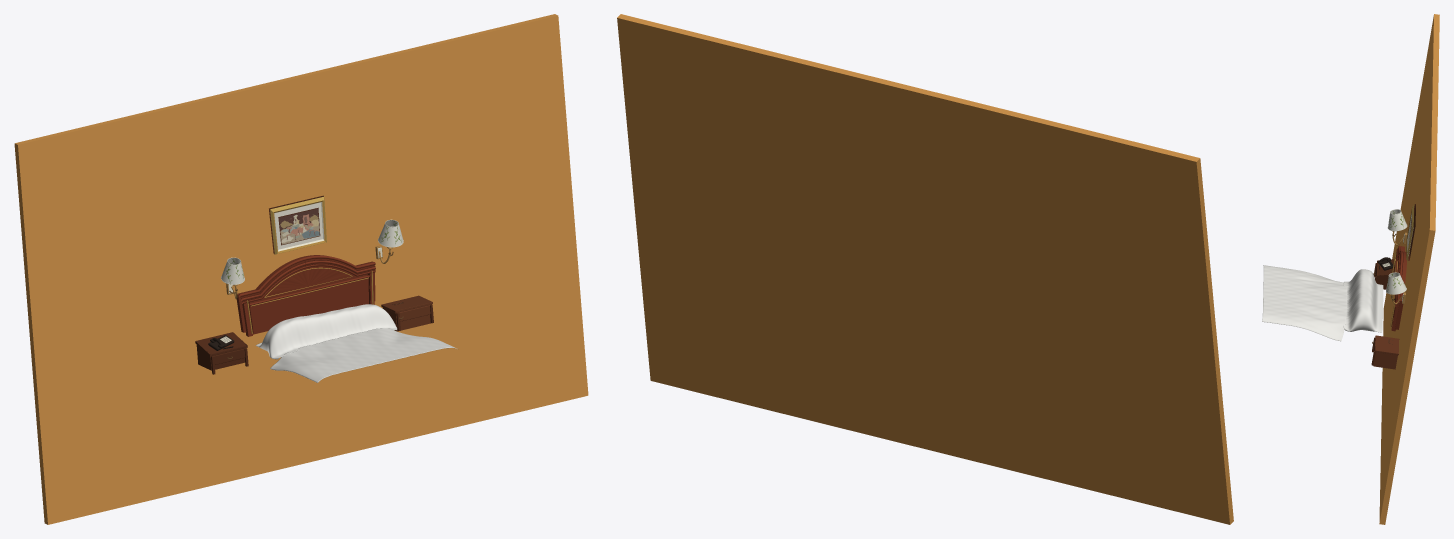
Rendered from scene-1-ours.glb.
3 renders of one model, left to right at view 1: azimuth 30°, elevation 25°; view 2: azimuth 150°, elevation 25°; view 3: azimuth 270°, elevation 25°, orthographic. The views are drawn at different scales.
Parts seen in each view (by area): view 1: Orange rear wall, Broad foreground white coverlet, Continuous raised white bedding, Lower headboard rectangular inset, Headboard shaped solid backing, Continuous painted pigment surface, Picture mat; view 2: Orange rear wall; view 3: Orange rear wall, Broad foreground white coverlet, Continuous raised white bedding, Right tabletop upper face, obj_007, Right cabinet case, obj_005, Headboard shaped solid backing.
Part boxes in pixels (x1,y1,x2,y2): Orange rear wall: (14,14,588,524); Broad foreground white coverlet: (270,328,457,382); Continuous raised white bedding: (256,304,397,359); Lower headboard rectangular inset: (249,278,368,334); Headboard shaped solid backing: (236,255,375,332); Continuous painted pigment surface: (279,208,319,244); Picture mat: (274,202,322,249); Orange rear wall: (617,14,1233,524); Orange rear wall: (1379,14,1439,524); Broad foreground white coverlet: (1262,265,1347,341); Continuous raised white bedding: (1343,269,1383,332); Right tabletop upper face: (1375,335,1398,353); obj_007: (1386,272,1406,294); Right cabinet case: (1373,352,1397,369); obj_005: (1388,209,1407,230); Headboard shaped solid backing: (1395,246,1406,329).
Size of the model in its own units: 14.01 by 8.92 by 4.87.
